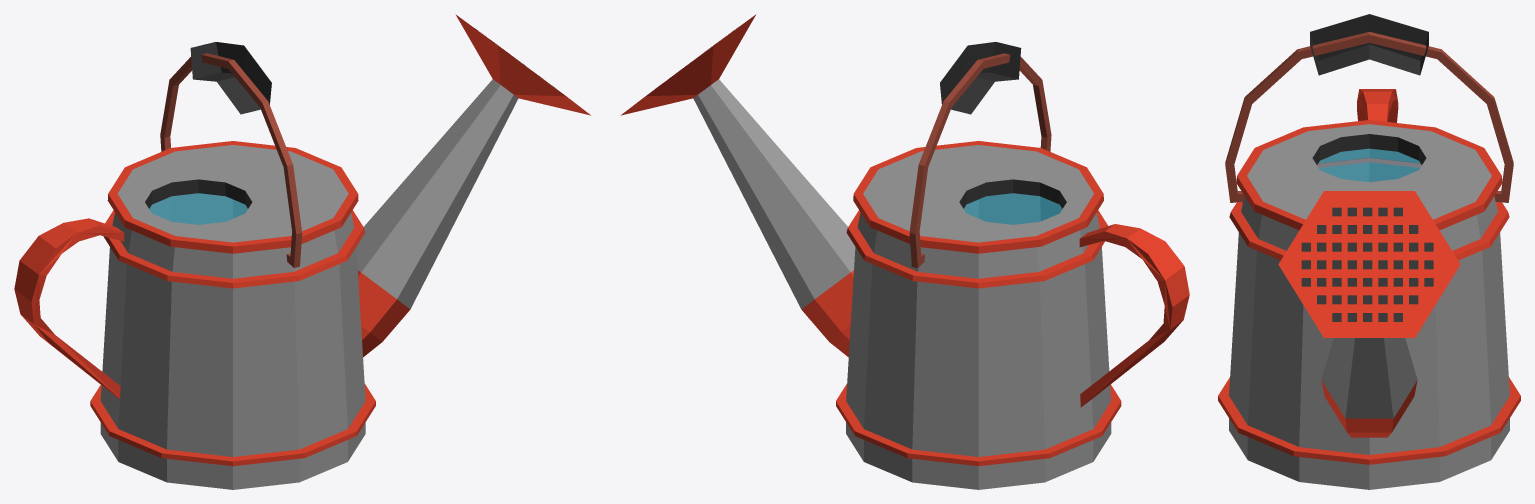
File: wateringCan-0,0.glb
The picture shows the model from 3 angles, left to right: view 1: azimuth 30°, elevation 25°; view 2: azimuth 150°, elevation 25°; view 3: azimuth 270°, elevation 25°; orthographic projection. The views are drawn at different scales.
Parts seen in each view (by area): view 1: Cilindro.031; view 2: Cilindro.031; view 3: Cilindro.031.
Part boxes in pixels (box(x1,y1,x2,y2)): Cilindro.031: box(14, 14, 590, 489); Cilindro.031: box(620, 14, 1189, 489); Cilindro.031: box(1218, 14, 1520, 489).
Size of the model in its own units: 0.8191 by 0.5557 by 0.3728.
